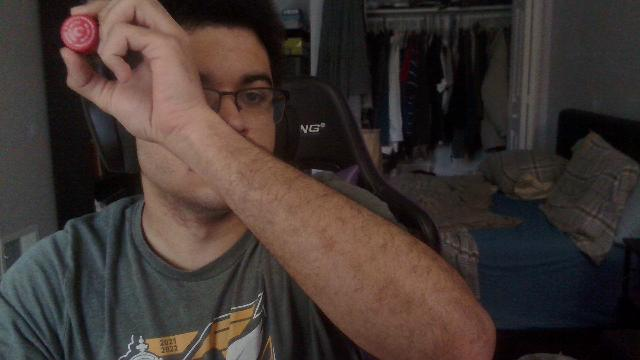cap: (62, 14, 98, 54)
